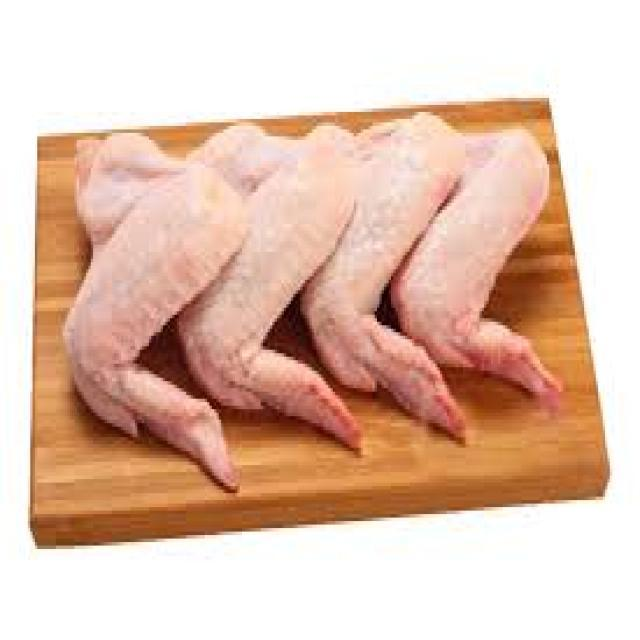wing: (68, 133, 242, 502), (205, 105, 352, 451), (334, 98, 456, 437), (419, 106, 554, 406)
